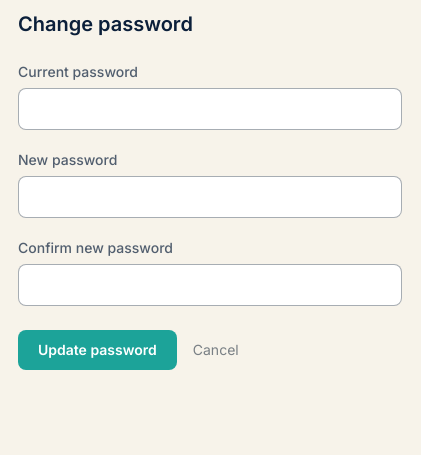
ChangePasswordPage › shows error when new password and confirm password do not match
Type "oldpass" into the password field labelled "Current password" at (210, 109), box [18,88,402,130]
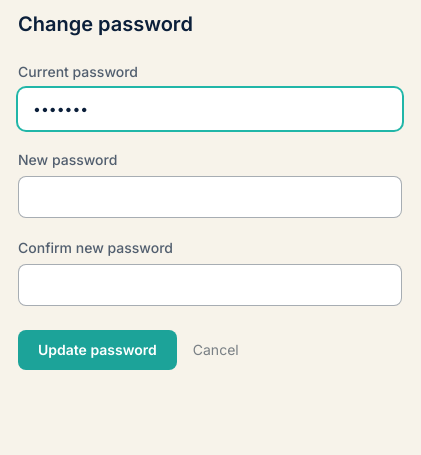
Type "newpass123" into the password field labelled "New password" at (210, 197), box [18,176,402,218]
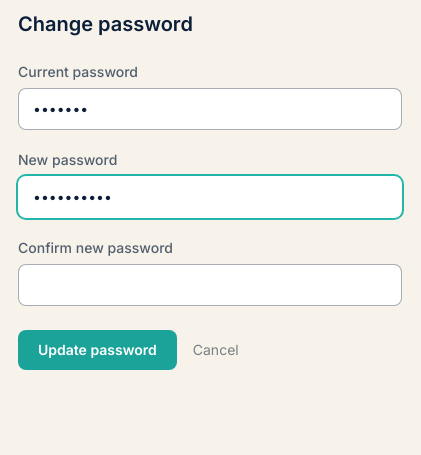
Type "different" into the password field labelled "Confirm new password" at (210, 285), box [18,264,402,306]
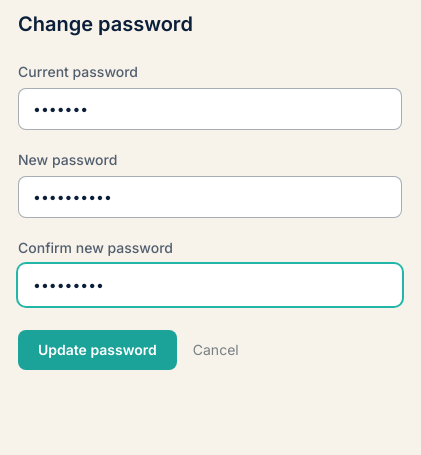
Click the button "Update password" at (97, 350), box [18,330,177,370]
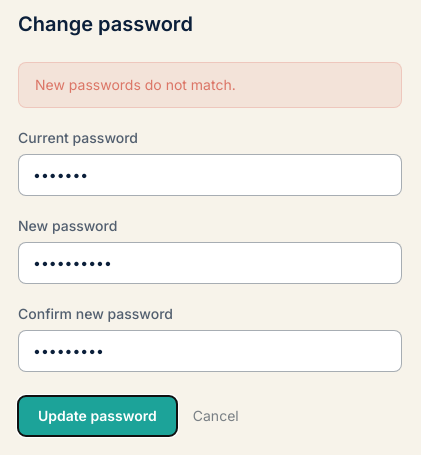
Expected: the message reads "New passwords do not match.", [35,76,236,93]
